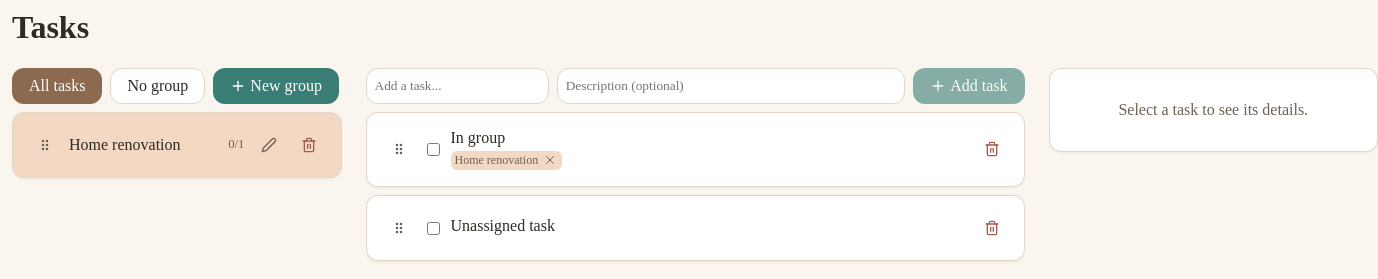
Test case: TasksPage › filters the visible tasks to a group when its card is clicked
Click the text "Home renovation". click: {"x": 125, "y": 145}
box: [69,136,180,154]
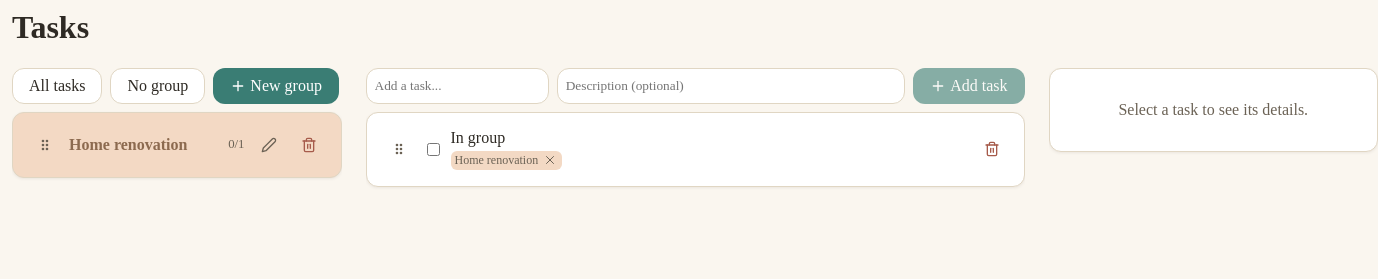
Expected: the link "In group" is shown, [450,129,505,147]
Now the link "Unassigned task" is gone
